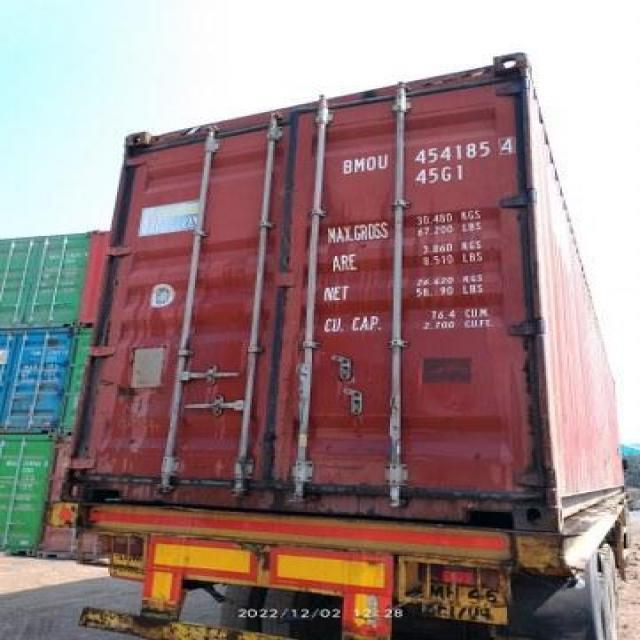container_number_h: (323, 132, 527, 202)
